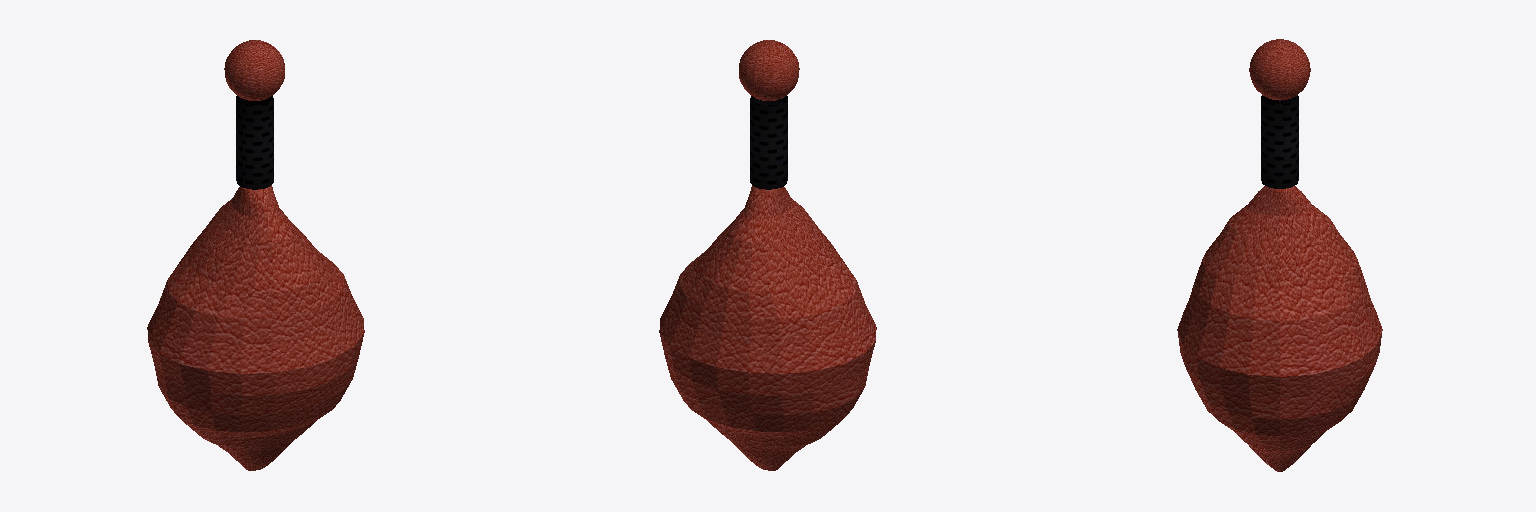
The picture shows the model from 3 angles: view 1: azimuth 30°, elevation 25°; view 2: azimuth 150°, elevation 25°; view 3: azimuth 270°, elevation 25°; orthographic projection.
Parts seen in each view (by area): view 1: pera:polySurface25; view 2: pera:polySurface25; view 3: pera:polySurface25.
Boxes of the visible parts, x1=… form: pera:polySurface25: x1=147, y1=40, x2=364, y2=470; pera:polySurface25: x1=659, y1=40, x2=876, y2=470; pera:polySurface25: x1=1177, y1=39, x2=1382, y2=471.
Size of the model in its own units: 0.5169 by 1.09 by 0.4738.
2 materials, 2 textured.